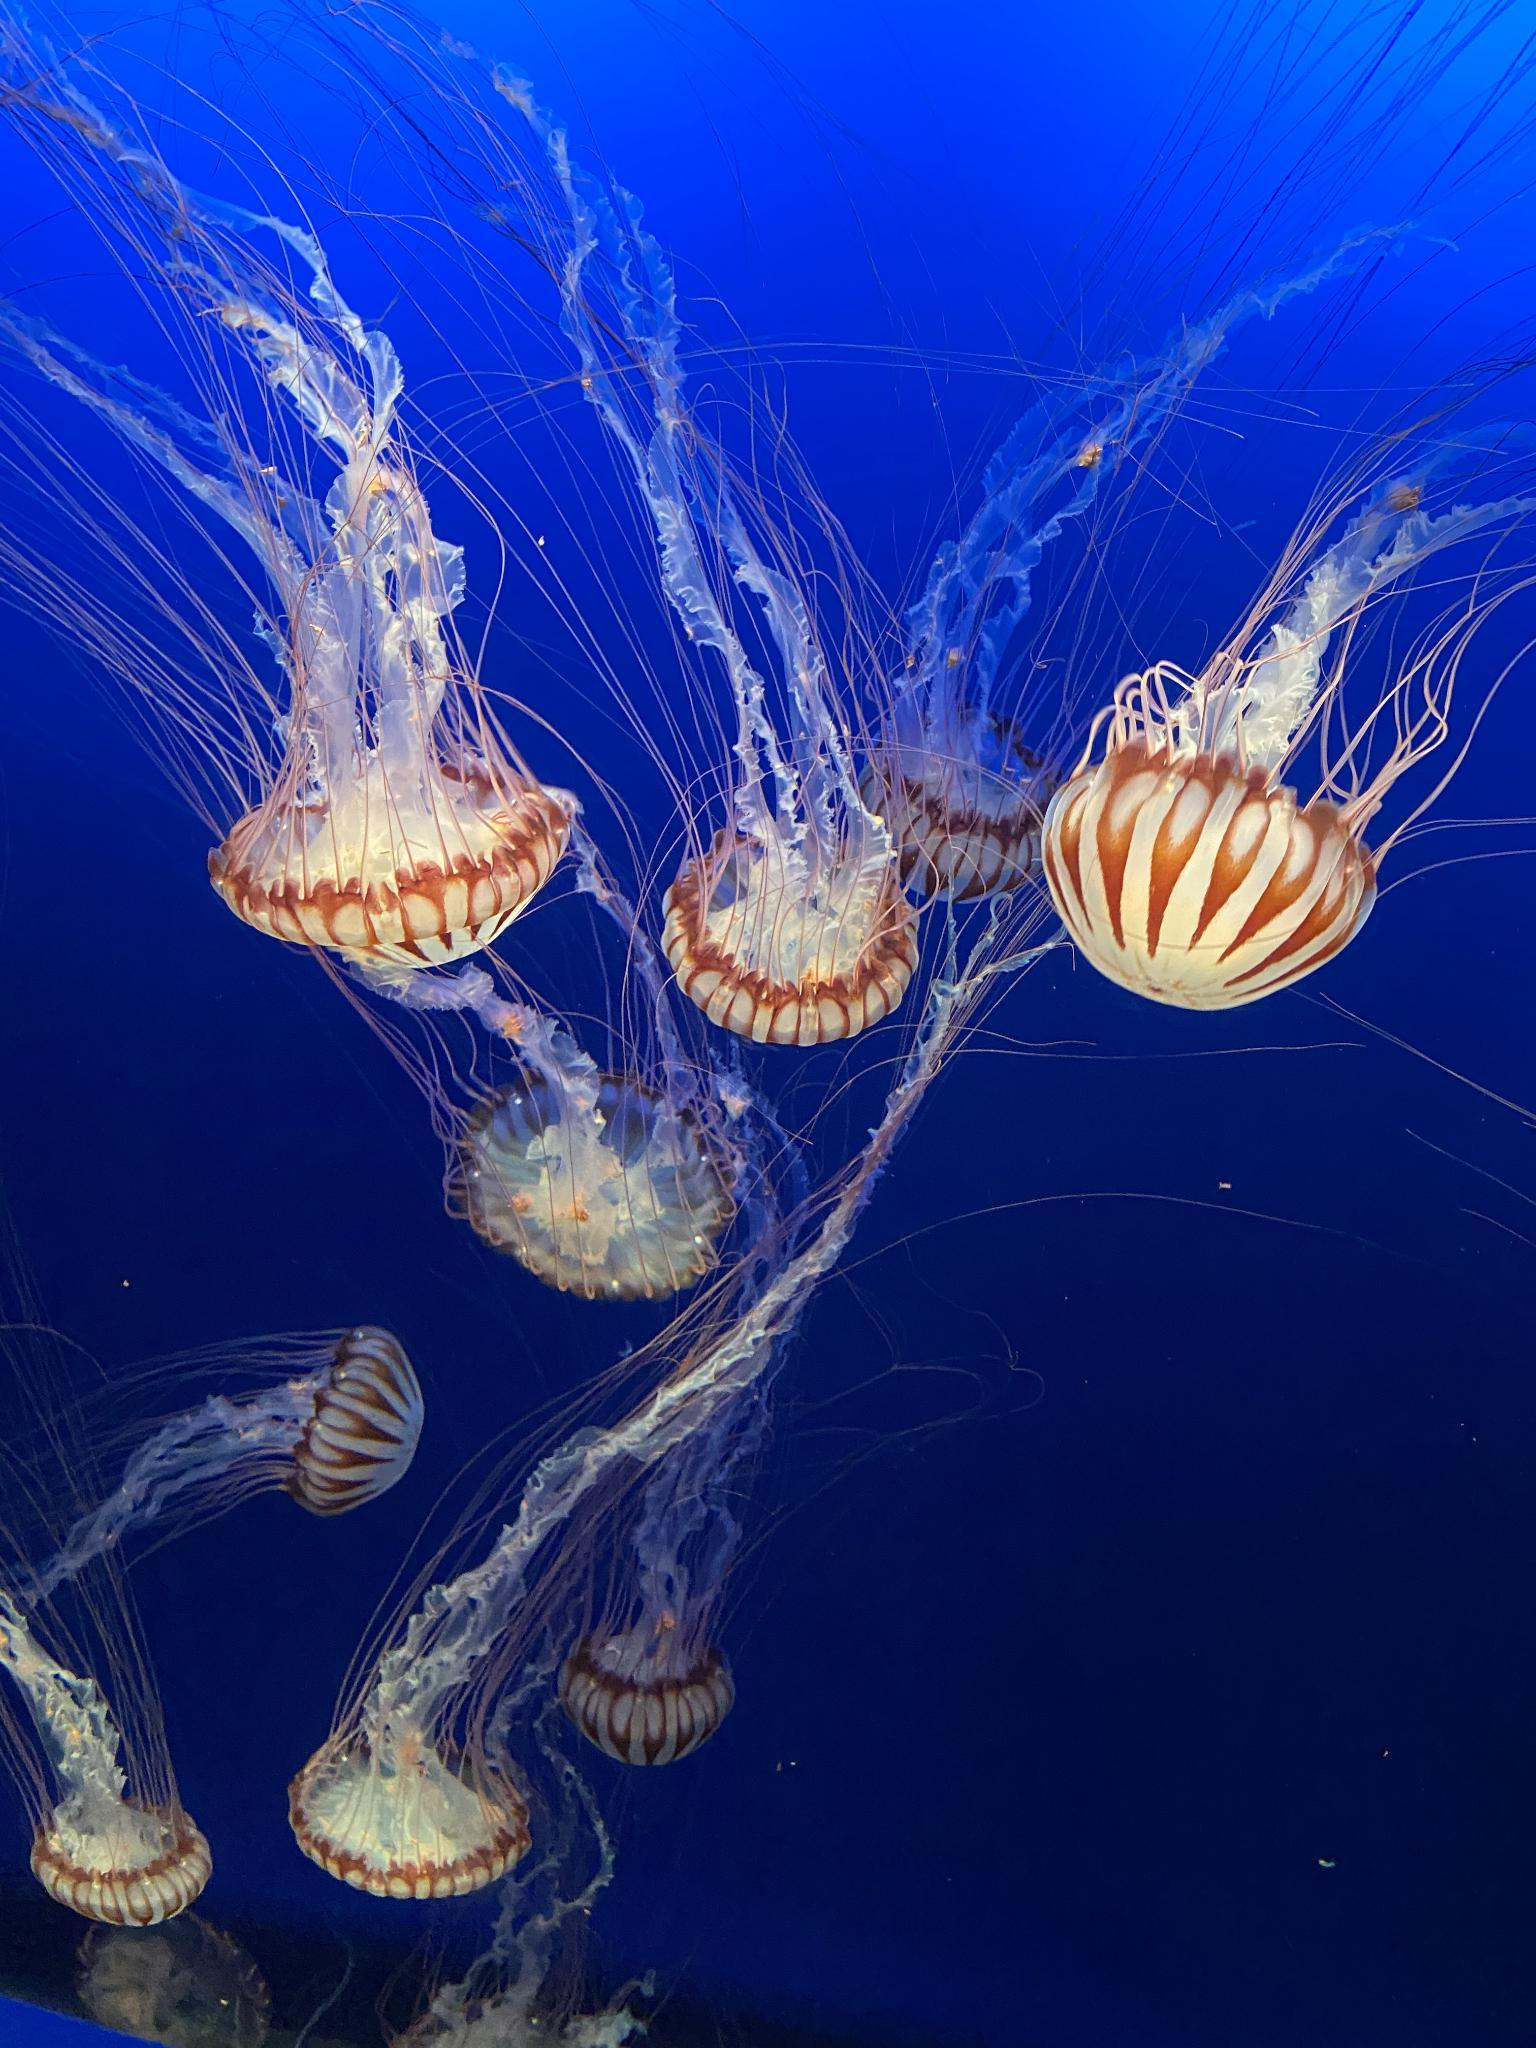jellyfish: (1041, 755, 1379, 1013), (190, 780, 574, 968), (460, 1098, 737, 1290), (282, 1716, 532, 1901), (674, 860, 913, 1039), (868, 726, 1044, 890), (287, 1317, 428, 1517), (565, 1625, 749, 1763), (77, 1922, 281, 2045), (35, 1796, 223, 1922)
